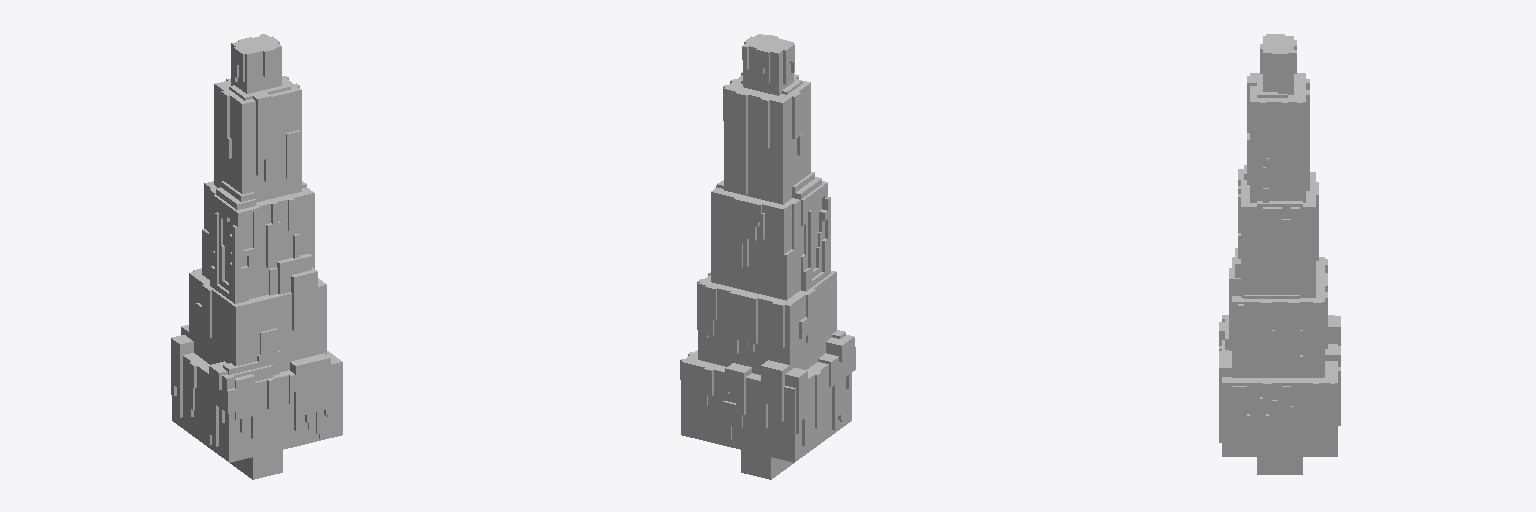
File: tree_1.obj
3 views of the same model, side by side, from view 1: azimuth 30°, elevation 25°; view 2: azimuth 150°, elevation 25°; view 3: azimuth 270°, elevation 25° (orthographic).
Visible parts, largest first — view 1: object 1; view 2: object 1; view 3: object 1.
Part boxes in pixels (left/top/right/bottom): object 1: left=171, top=34, right=342, bottom=479; object 1: left=680, top=34, right=855, bottom=479; object 1: left=1219, top=34, right=1340, bottom=474.
Bounding box in the file's own units: 4.5 × 15 × 3.9.